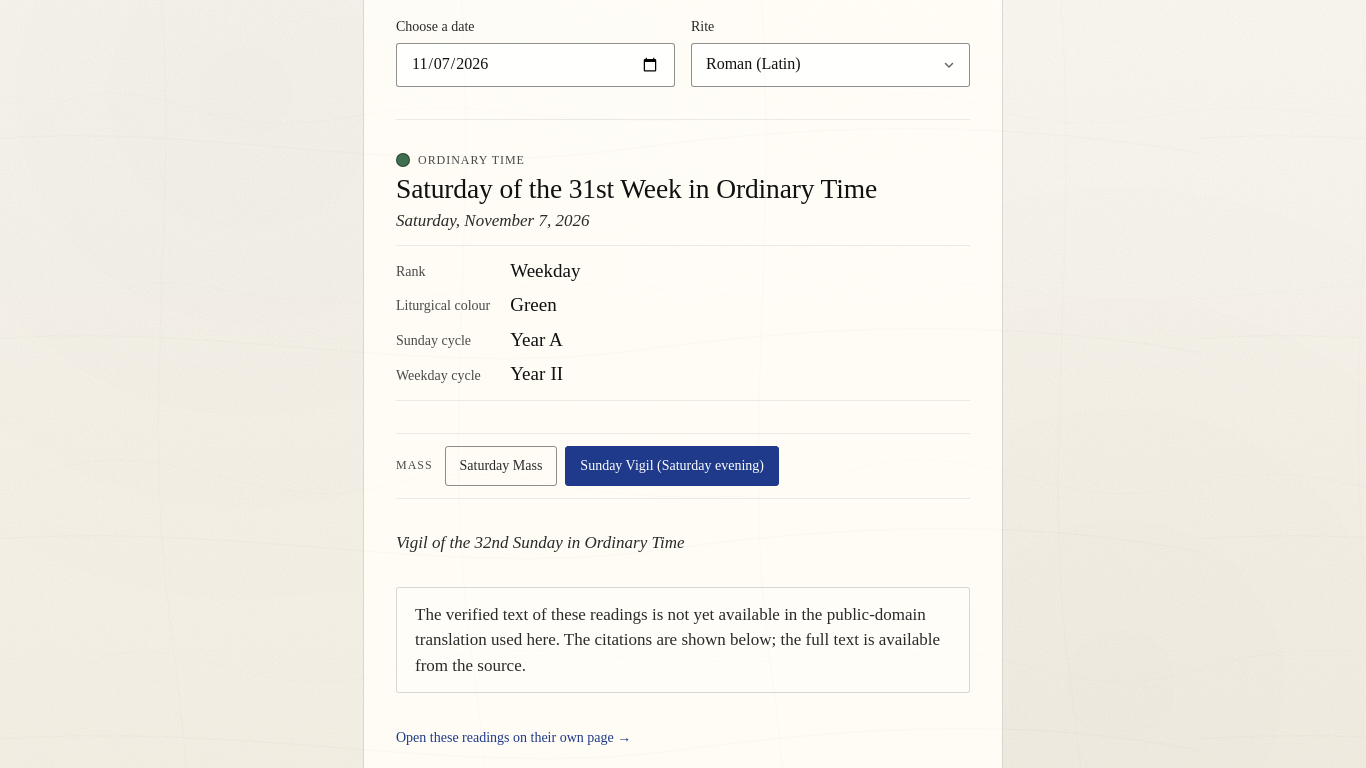
Test: LiturgicalCalendarBrowser — the Mass it opens on › is Sunday's Vigil from noon, and only for today
Expected: the element named "November 7, 2026" is shown, 396,446 -> 779,486
Expected: the text "Vigil of the 32nd Sunday in Ordinary Time" is shown, 396,533 -> 684,552
Type "2026-11-14" into the date field labelled "Choose a date".
click(536, 65); type("2026-11-14")  # box 396,43 -> 675,87
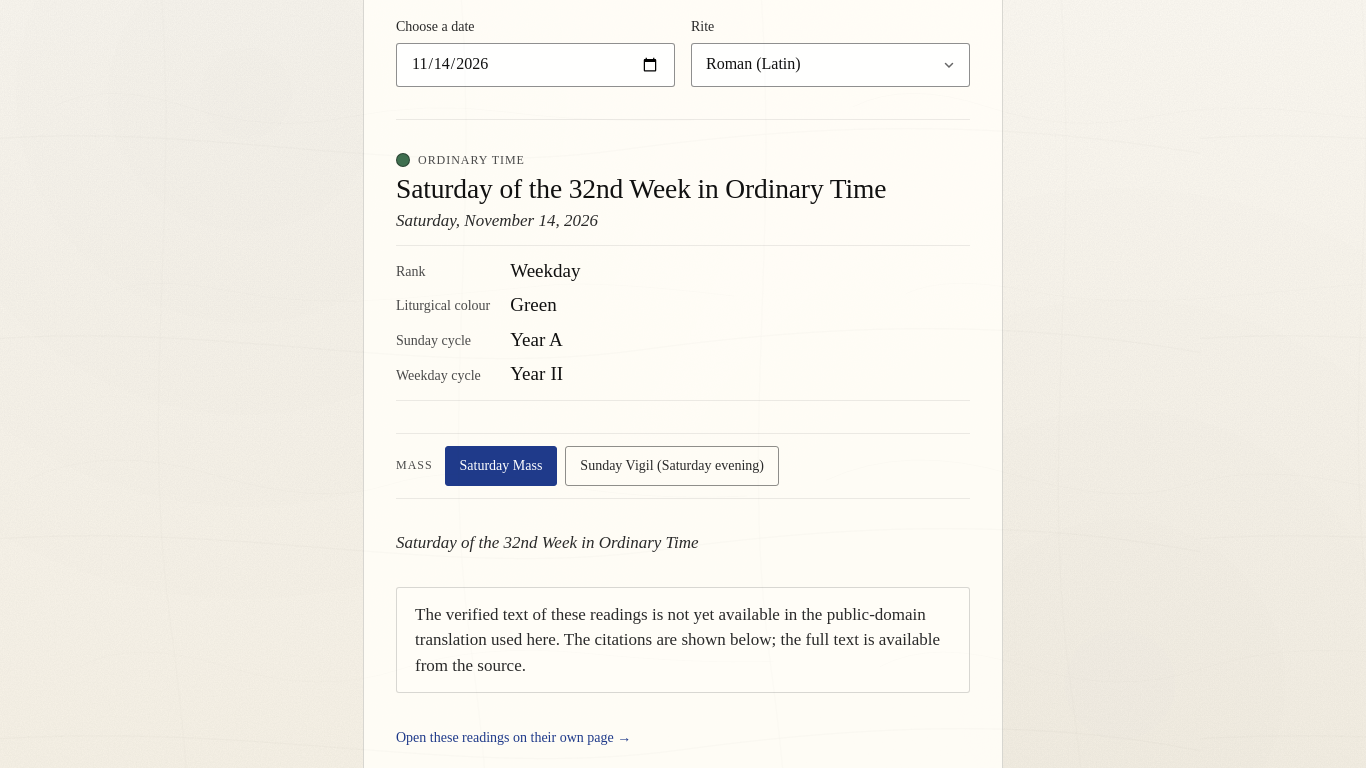
Now the element named "November 14, 2026" is shown, box 396,446 -> 779,486
Type "2026-10-31" into the date field labelled "Choose a date".
click(536, 65); type("2026-10-31")  # box 396,43 -> 675,87
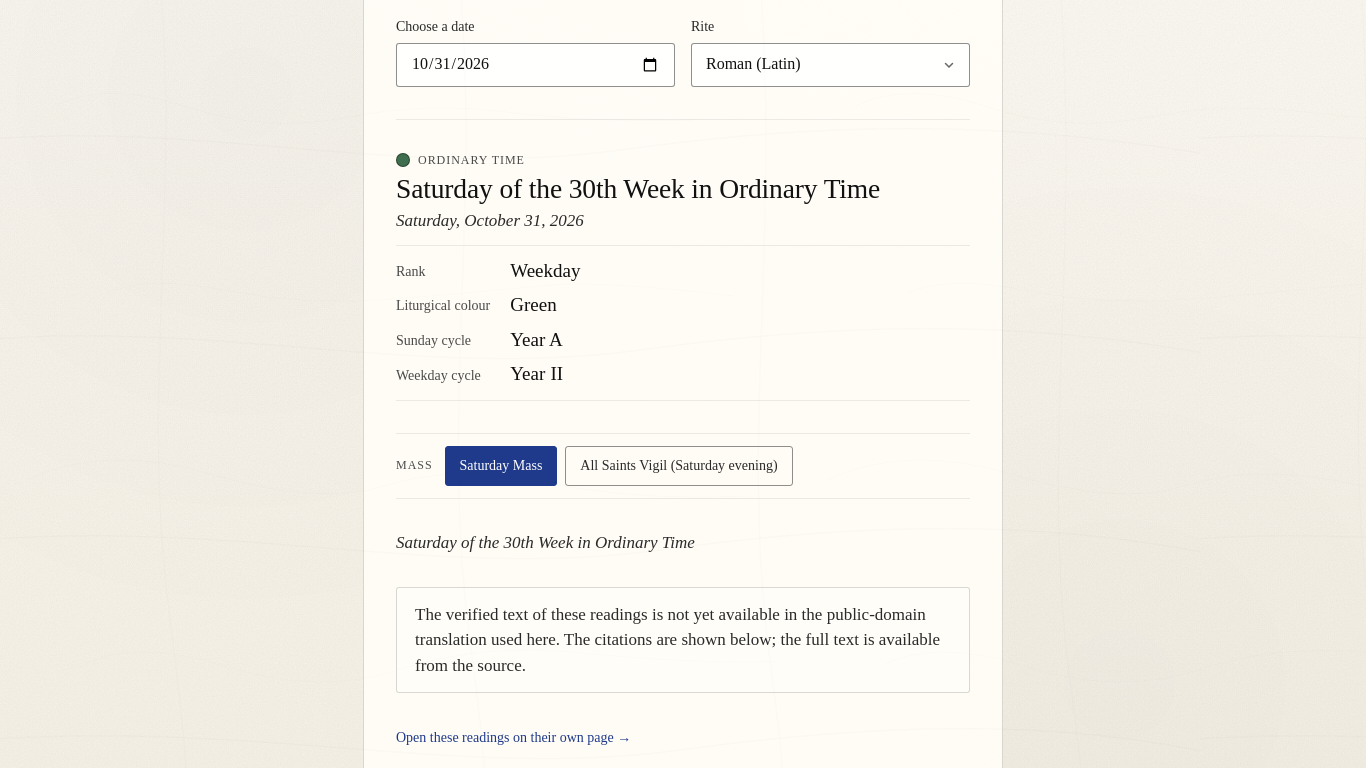
Now the element named "October 31, 2026" is shown, box 396,446 -> 793,486
Type "2026-11-07" into the date field labelled "Choose a date".
click(536, 65); type("2026-11-07")  # box 396,43 -> 675,87
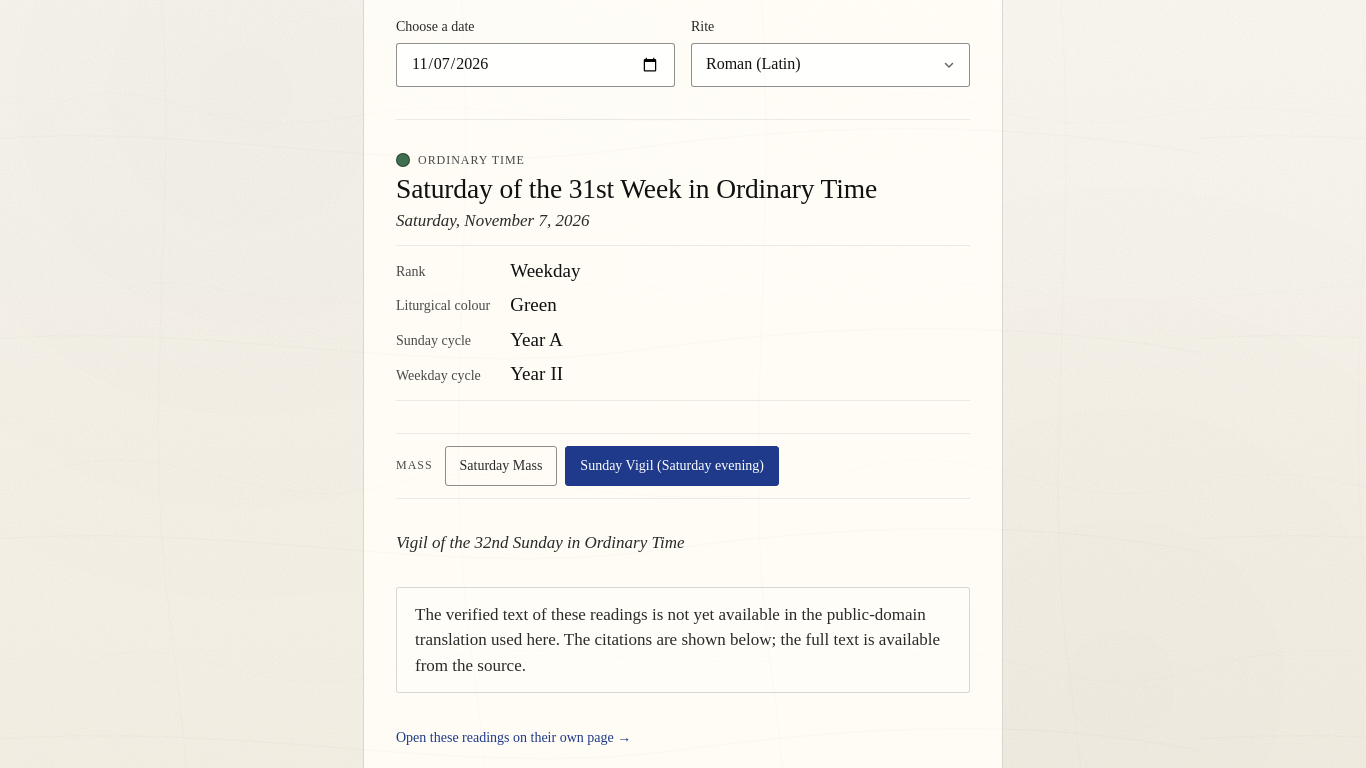
Now the text "Vigil of the 32nd Sunday in Ordinary Time" is shown, box 396,533 -> 684,552
